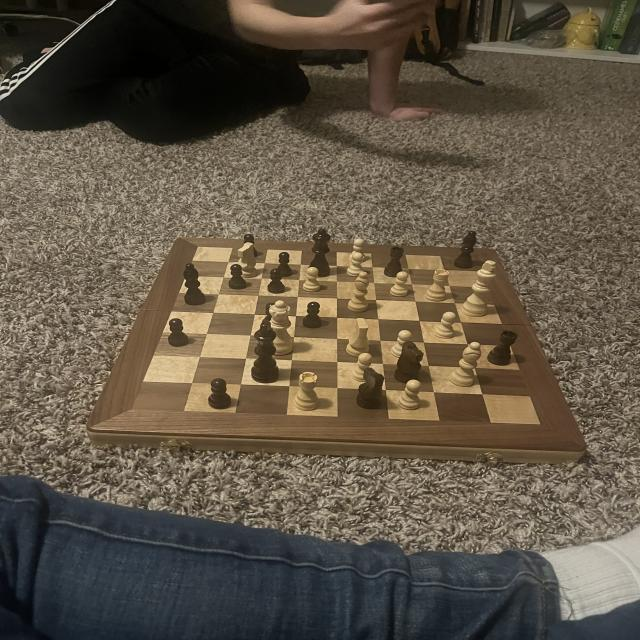bishop: (179, 260, 211, 308), (452, 229, 479, 270)
black-bishop: (251, 320, 282, 384)
black-king: (388, 339, 430, 385), (355, 367, 390, 413)
black-knight: (164, 316, 193, 349), (207, 378, 233, 410), (300, 300, 326, 330), (264, 267, 288, 295), (273, 251, 296, 278), (227, 262, 249, 290), (242, 232, 259, 258), (262, 302, 277, 324)
black-pawn: (308, 228, 333, 280)
black-queen: (486, 329, 520, 367), (382, 246, 407, 278)
black-rook: (448, 342, 486, 388), (344, 270, 373, 313)
white-bishop: (457, 260, 501, 319)
white-king: (344, 318, 374, 357), (234, 241, 258, 280)
white-knight: (393, 378, 426, 414), (348, 352, 376, 384), (432, 311, 460, 340), (388, 329, 416, 358), (386, 270, 412, 301), (300, 266, 324, 294), (345, 252, 368, 278), (347, 238, 369, 262)
white-pawn: (266, 298, 296, 357)
white-queen: (293, 370, 324, 412), (422, 267, 453, 303)
